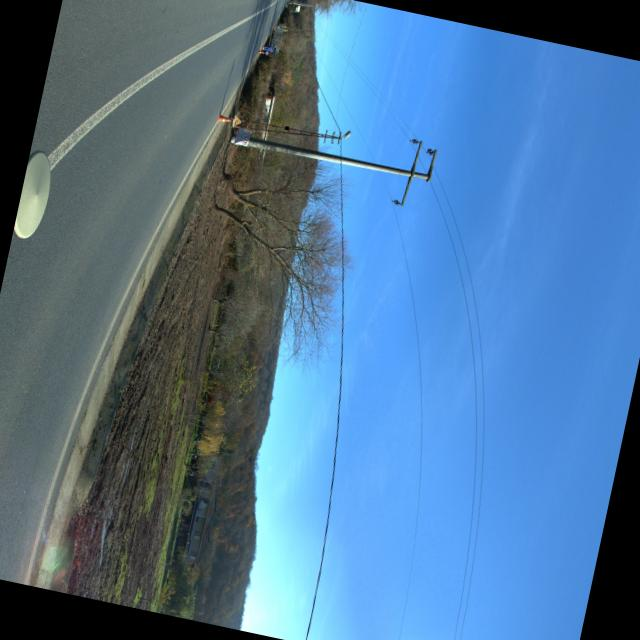Utility Pole Information Plate: (283, 126, 288, 130)
